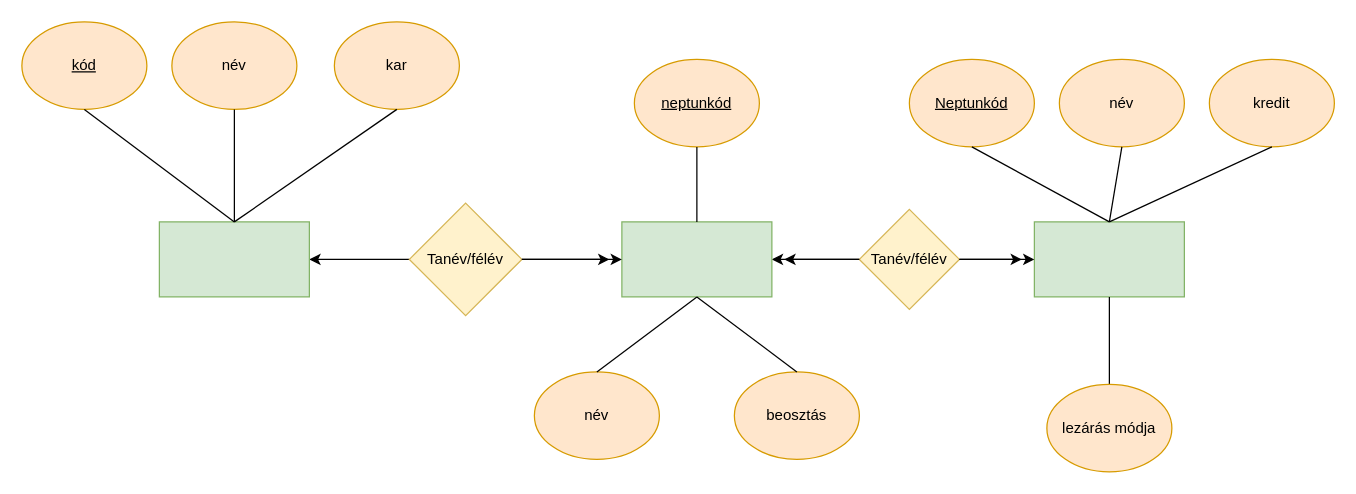
Some shapes in this 1356 by 494 pixel diagram are drawn without their labels. The shapes that lost their labels are listed below. From the top down, each one's centre as x and y in pixels, then its label:
At (x=233, y=259): "tanszék".
At (x=696, y=259): "oktató".
At (x=1108, y=259): "tantárgy".
